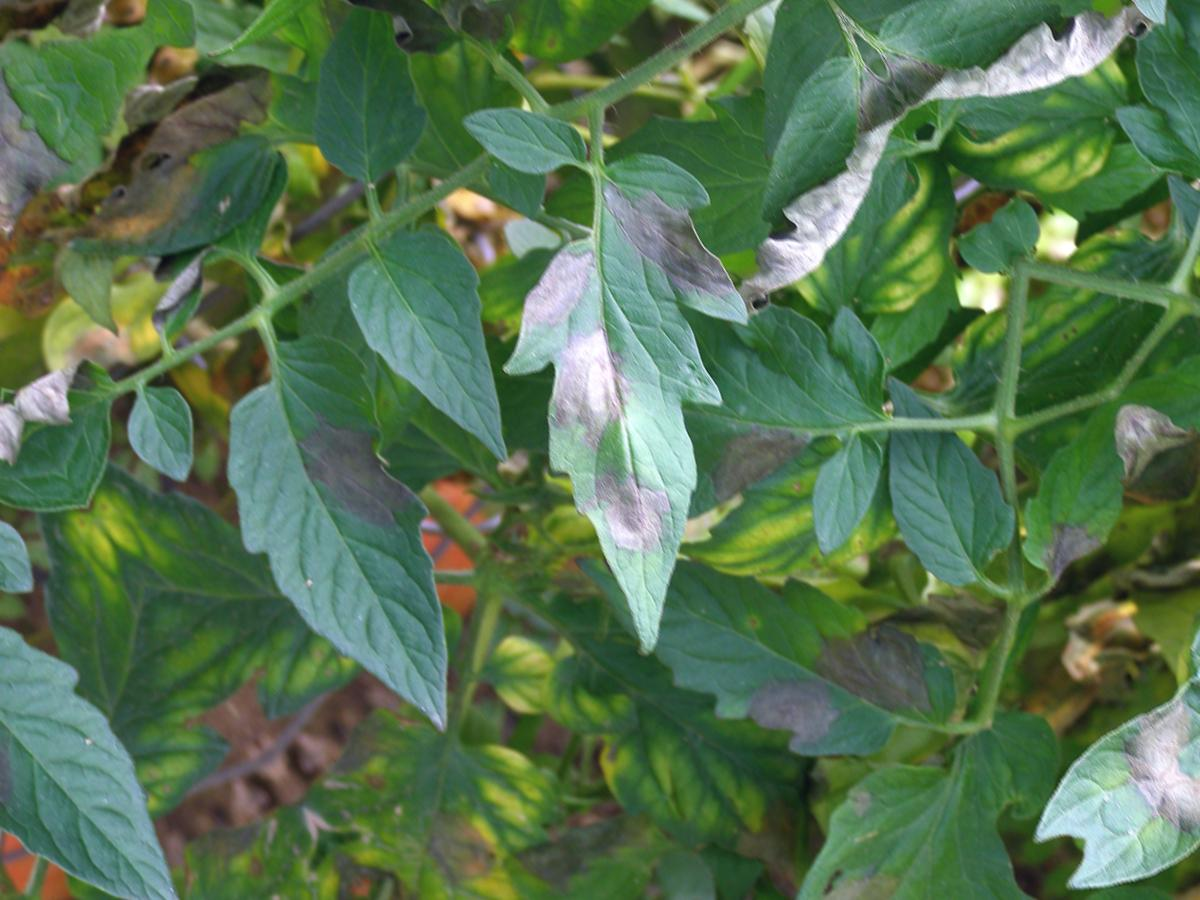Tomato leaf late blight: (402, 127, 884, 642), (149, 310, 557, 774), (608, 441, 987, 836), (628, 654, 1129, 900), (235, 0, 701, 162), (72, 91, 325, 309), (968, 398, 1182, 604)
